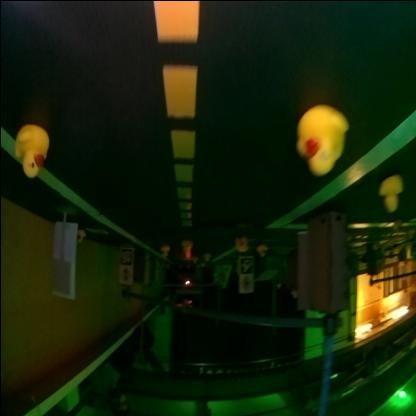Duckie: (294, 112, 346, 172), (15, 125, 49, 176), (376, 174, 402, 212), (234, 238, 244, 252), (180, 242, 191, 251), (76, 230, 84, 242), (256, 246, 263, 256), (159, 249, 165, 256)
Intersection sign: (237, 274, 252, 290)
QR code: (238, 256, 252, 274), (119, 248, 132, 264)
Signal sign: (119, 266, 130, 283)
